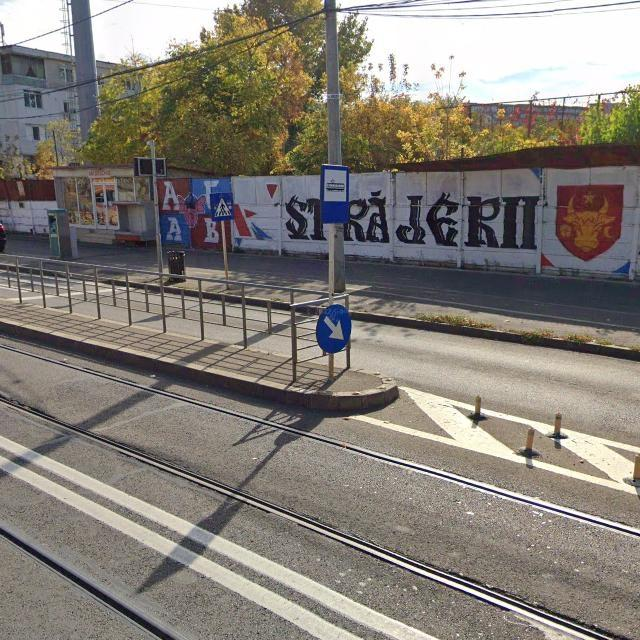info_crosswalk: (210, 194, 234, 220)
